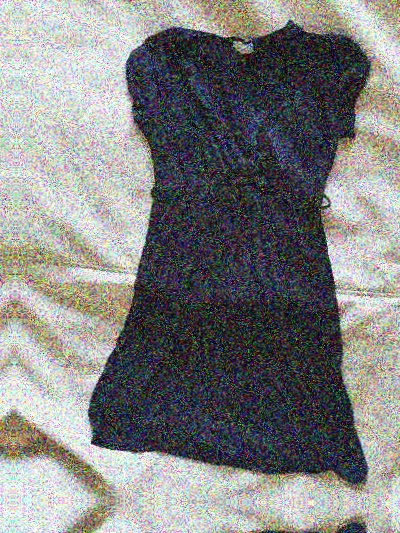Dress: (80, 10, 387, 461)
